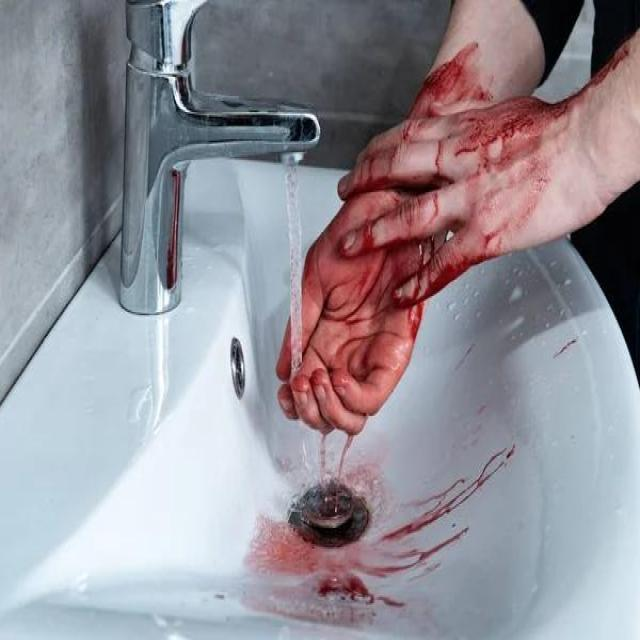flood: (274, 270, 468, 596), (343, 62, 535, 298)
